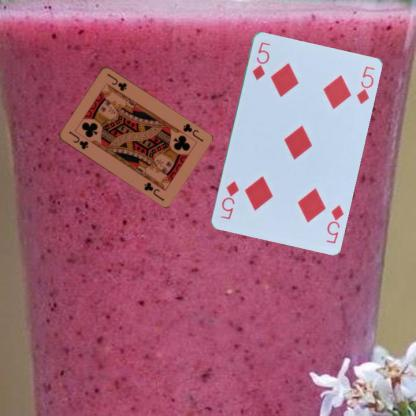5d: (249, 39, 272, 81), (323, 202, 345, 244)
Jc: (180, 121, 205, 143), (66, 129, 89, 151)
